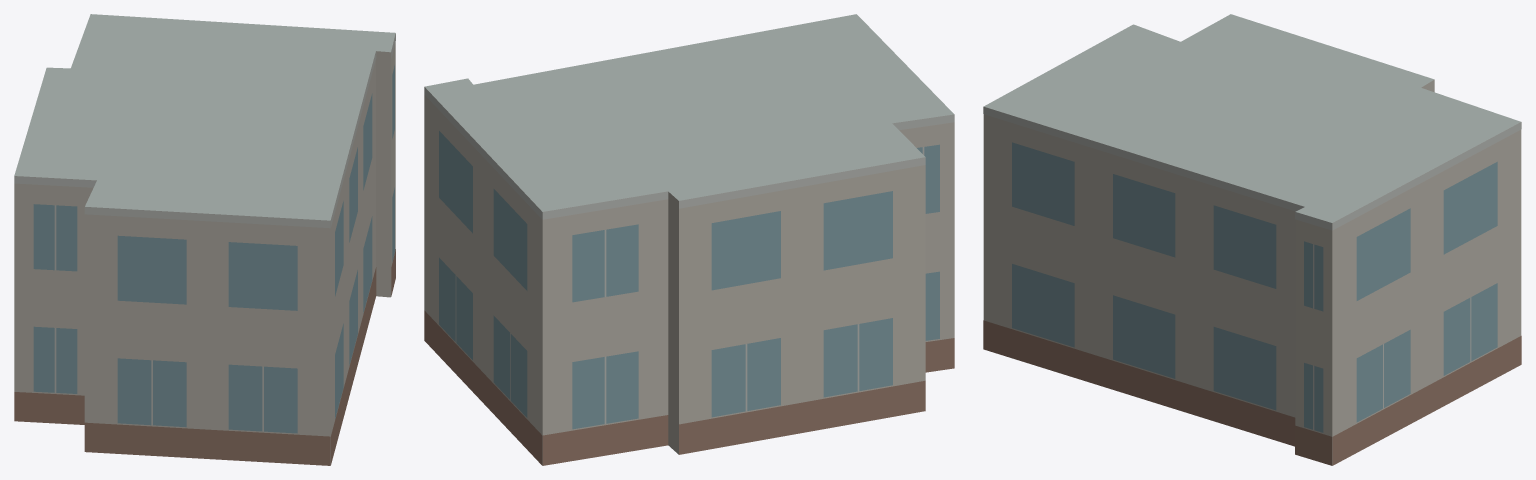
The model's file is survey-upis-33037426.glb.
3 renders of one model, left to right at view 1: azimuth 30°, elevation 25°; view 2: azimuth 150°, elevation 25°; view 3: azimuth 270°, elevation 25°, orthographic. The views are drawn at different scales.
Visible parts, largest first — view 1: survey-upis-33037426.tmp; view 2: survey-upis-33037426.tmp; view 3: survey-upis-33037426.tmp.
Part boxes in pixels (x1,y1,x2,y2): survey-upis-33037426.tmp: (14, 14, 395, 465); survey-upis-33037426.tmp: (424, 14, 954, 465); survey-upis-33037426.tmp: (983, 14, 1521, 465).
Bounding box in the file's own units: 14.58 × 7.89 × 15.86.
